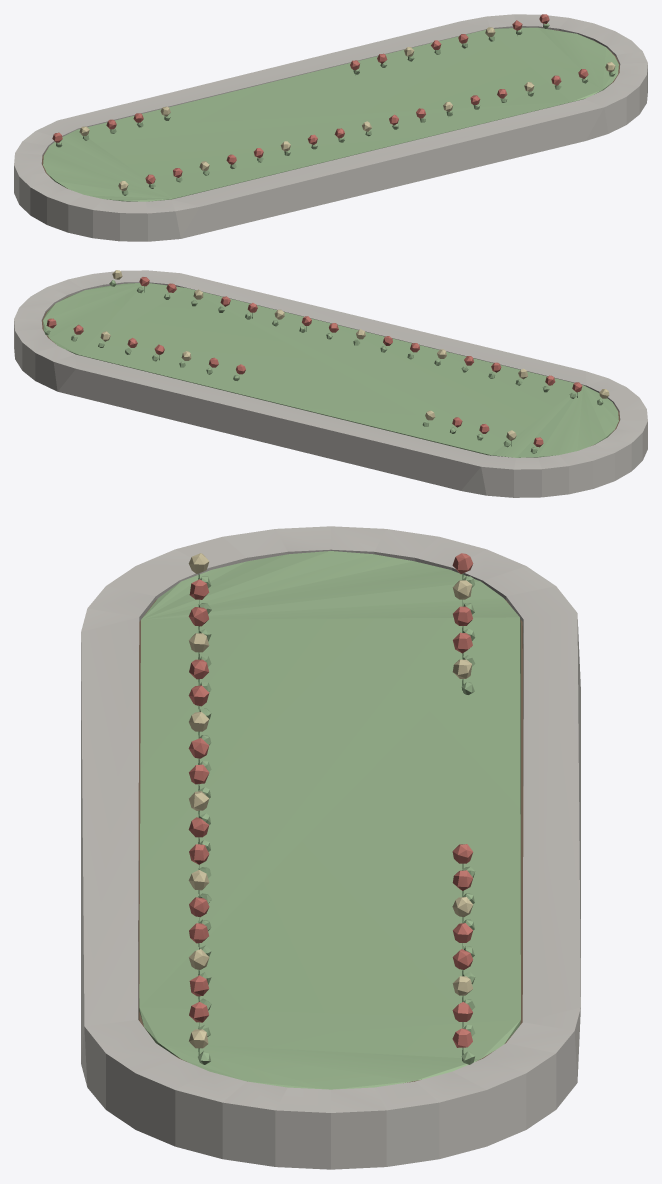
The model's file is plaza_garden_long_bare_autumn_low.glb.
3 renders of one model, top to bottom at view 1: azimuth 30°, elevation 25°; view 2: azimuth 150°, elevation 25°; view 3: azimuth 270°, elevation 25°, orthographic. The views are drawn at different scales.
Size of the model in its own units: 10 by 0.6981 by 3.6.
